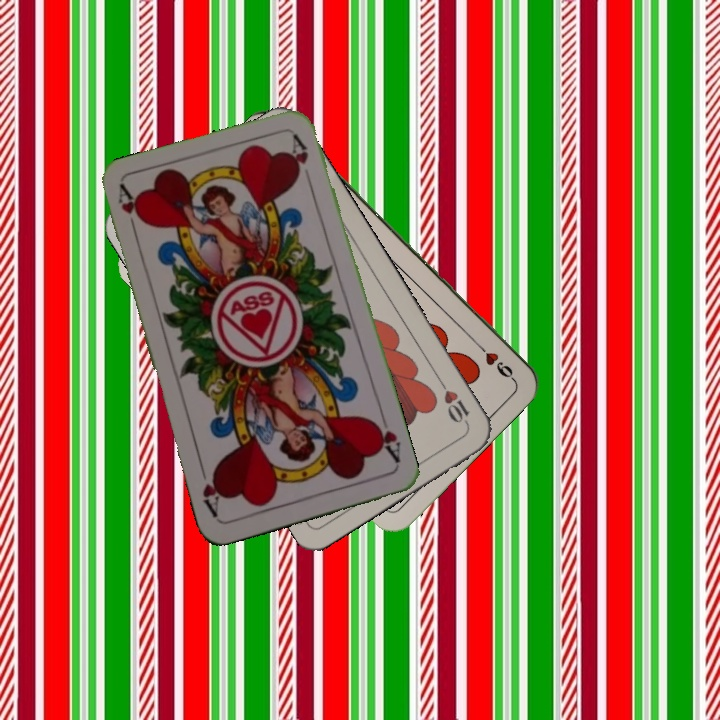H10: (434, 375, 473, 428)
H9: (470, 337, 517, 383)
HA: (368, 410, 404, 466), (113, 182, 146, 241)
